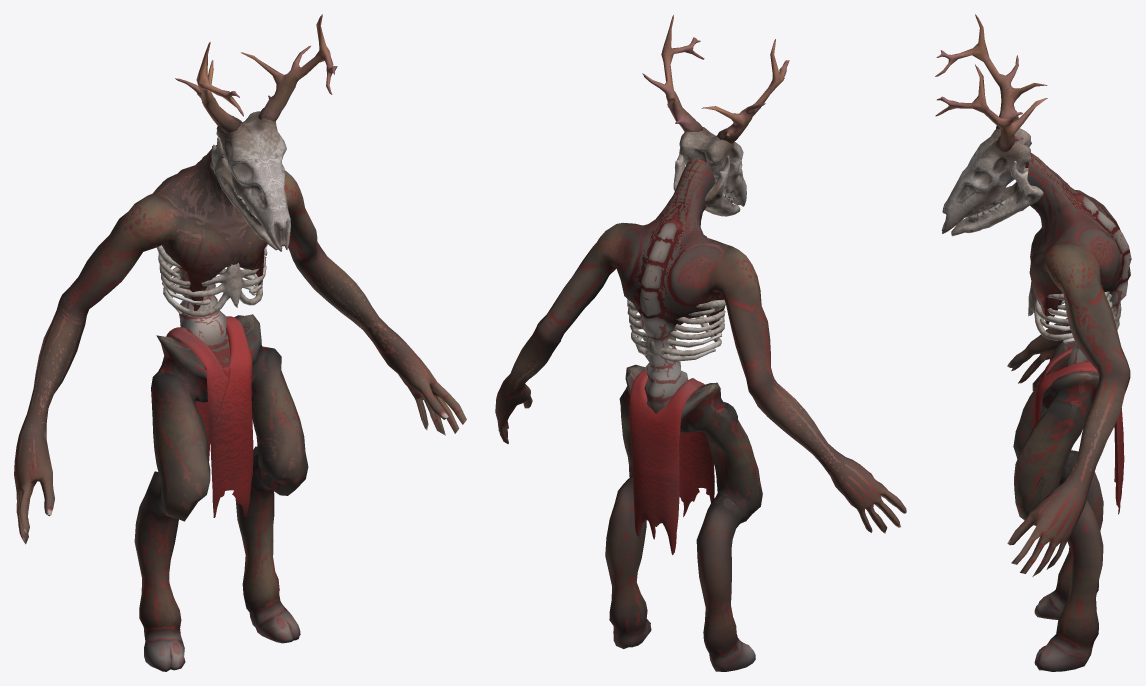
The model's file is Wendigo.obj.
3 views of the same model, side by side, from view 1: azimuth 30°, elevation 25°; view 2: azimuth 150°, elevation 25°; view 3: azimuth 270°, elevation 25° (orthographic). The views are drawn at different scales.
Parts seen in each view (by area): view 1: Body:polySurface2, tophead:polySurface2; view 2: Body:polySurface2, tophead:polySurface2; view 3: Body:polySurface2, tophead:polySurface2.
Boxes of the visible parts, box(x1,y1,x2,y2) form: Body:polySurface2: box(14, 145, 466, 671); tophead:polySurface2: box(156, 14, 337, 317); Body:polySurface2: box(495, 159, 906, 671); tophead:polySurface2: box(627, 15, 789, 361); Body:polySurface2: box(1007, 153, 1131, 671); tophead:polySurface2: box(935, 14, 1121, 343).
Size of the model in its own units: 161 by 227 by 67.04.
2 materials, 2 textured.
